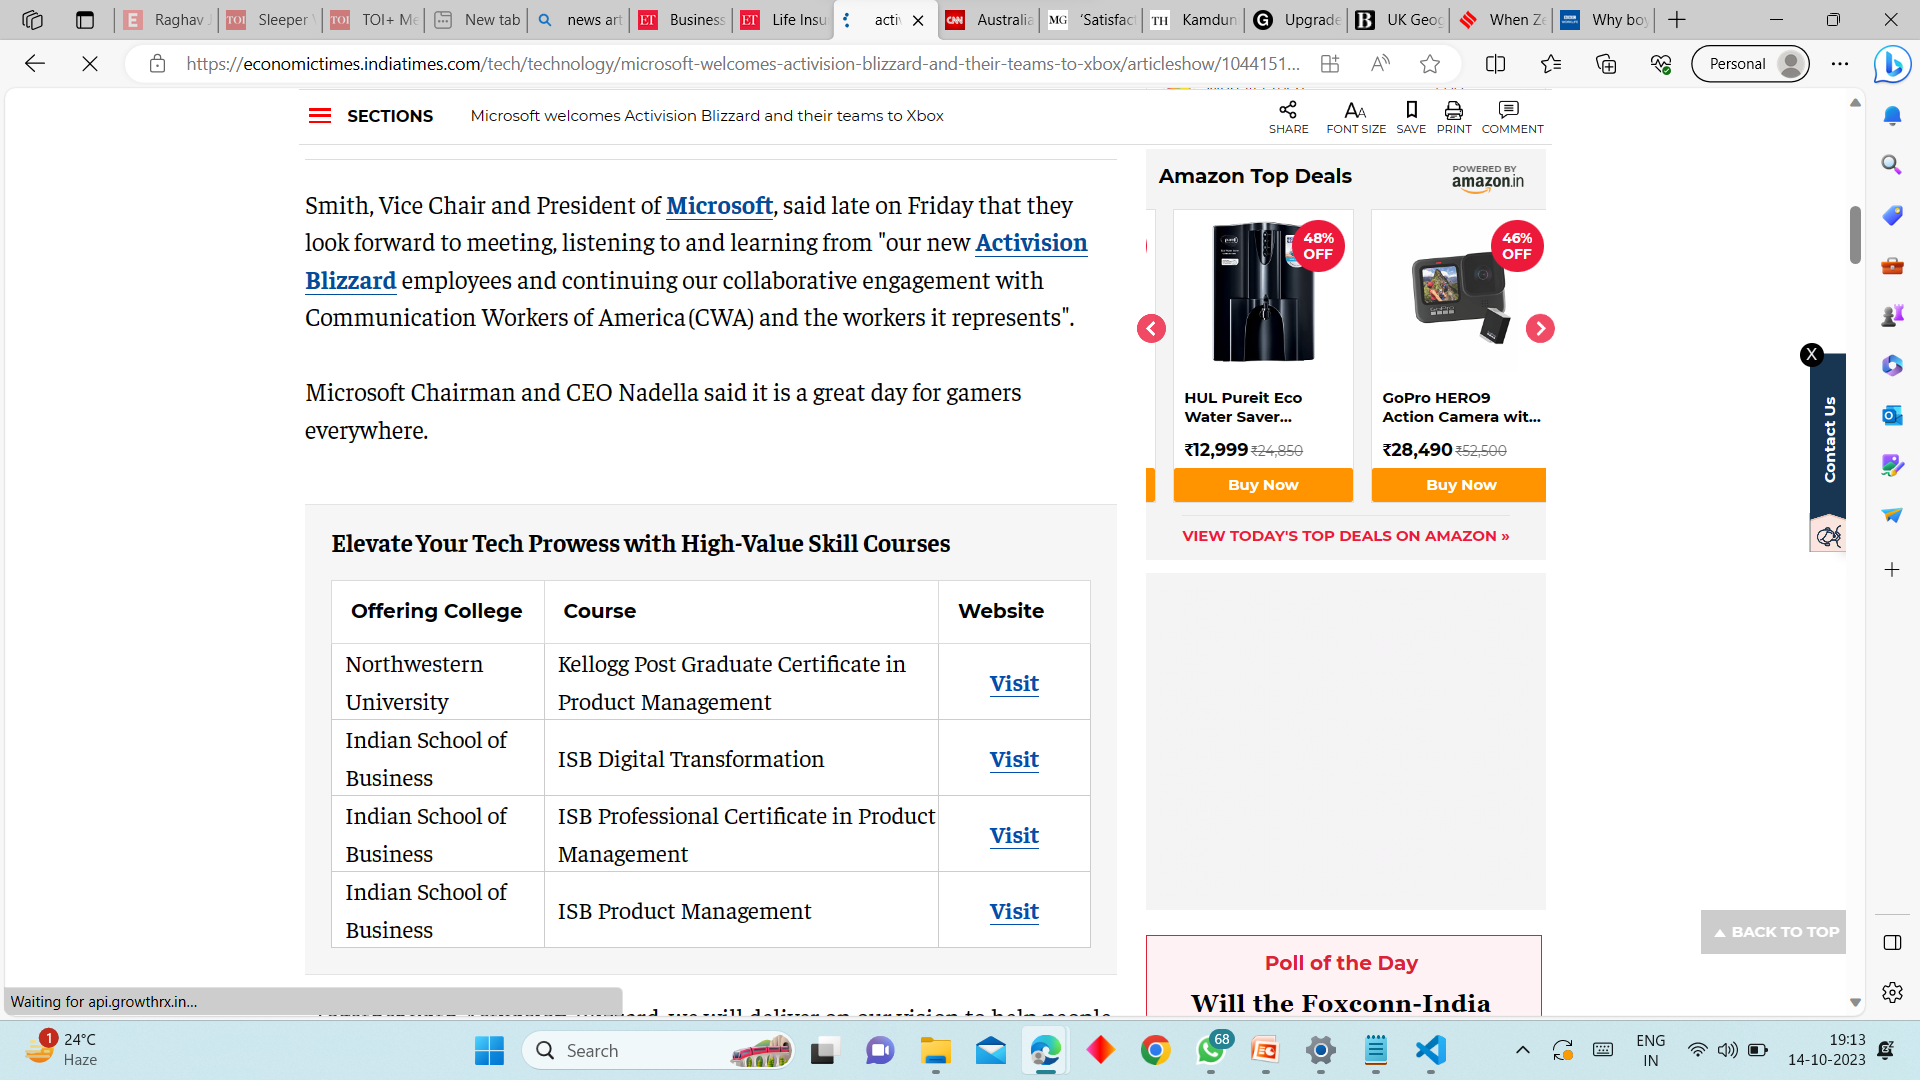Image: (313, 525, 1118, 968), (1140, 145, 1565, 494), (1140, 932, 1541, 1020), (1161, 496, 1509, 552)
Paragraph: (288, 165, 1111, 347), (302, 356, 1098, 505), (463, 98, 966, 136), (329, 92, 440, 132), (1487, 96, 1556, 148), (1328, 98, 1389, 136), (1438, 92, 1478, 136), (1270, 98, 1310, 136), (1395, 92, 1424, 139)
